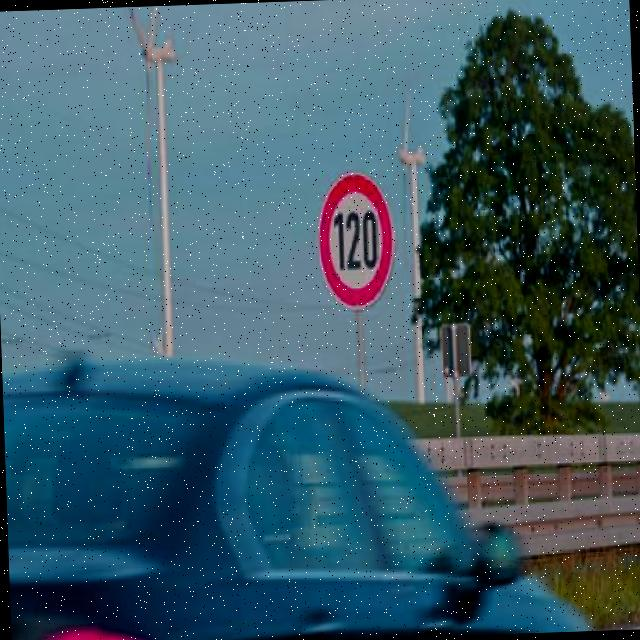Ograniczenie predkosci do 120: (312, 174, 398, 311)
